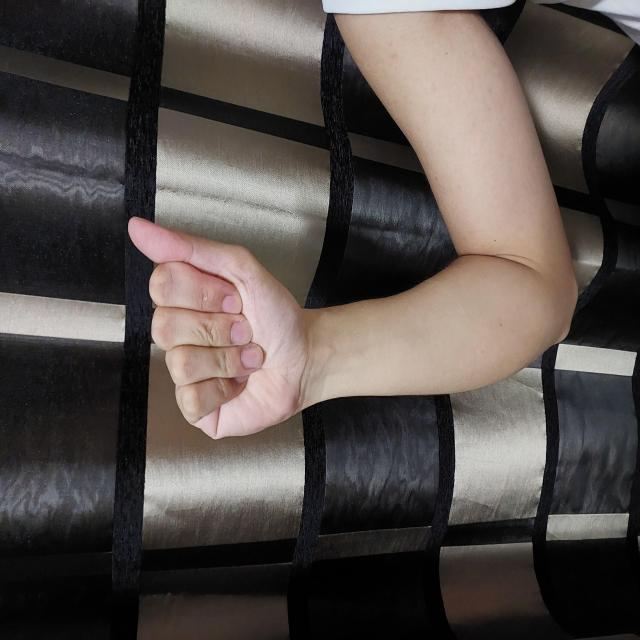A: (198, 124, 426, 311)
